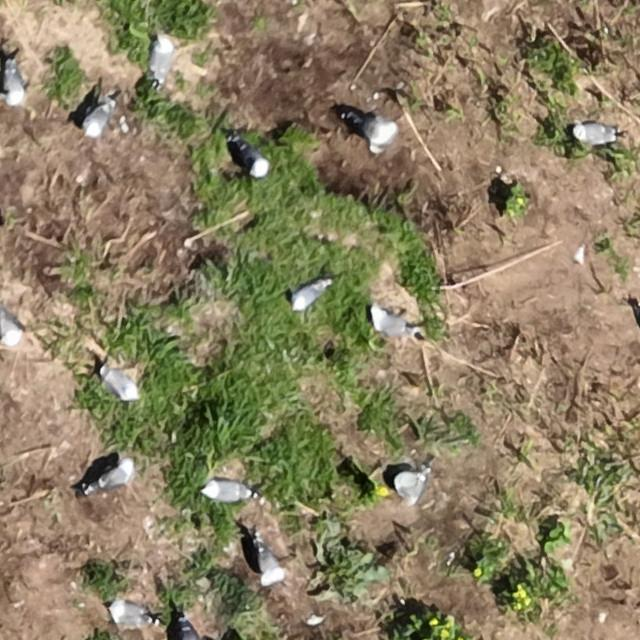umineko: (350, 116, 396, 145), (236, 142, 267, 176), (394, 471, 426, 503), (372, 311, 414, 335), (105, 370, 139, 399), (97, 462, 134, 488), (259, 544, 284, 582), (152, 37, 174, 80), (206, 481, 249, 502), (6, 65, 27, 105), (293, 282, 323, 310), (110, 604, 150, 625), (84, 105, 110, 137), (574, 124, 614, 143), (1, 308, 22, 342), (181, 622, 202, 639)
